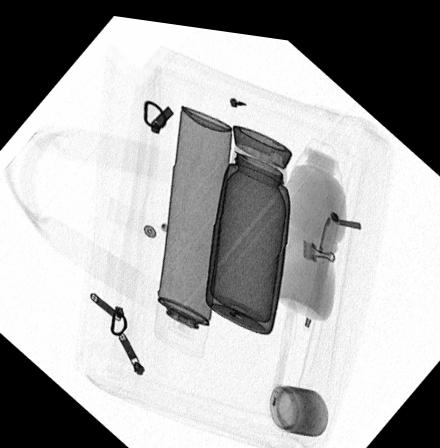Sprayer: (154, 100, 231, 352)
